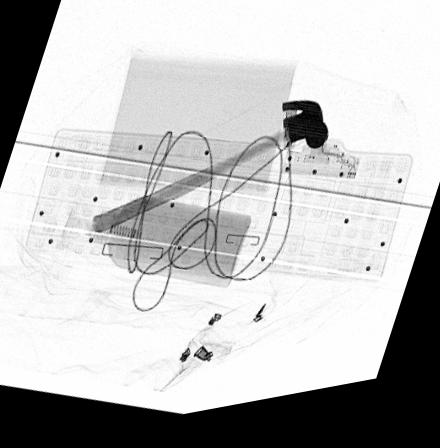Hammer: (91, 111, 328, 237)
